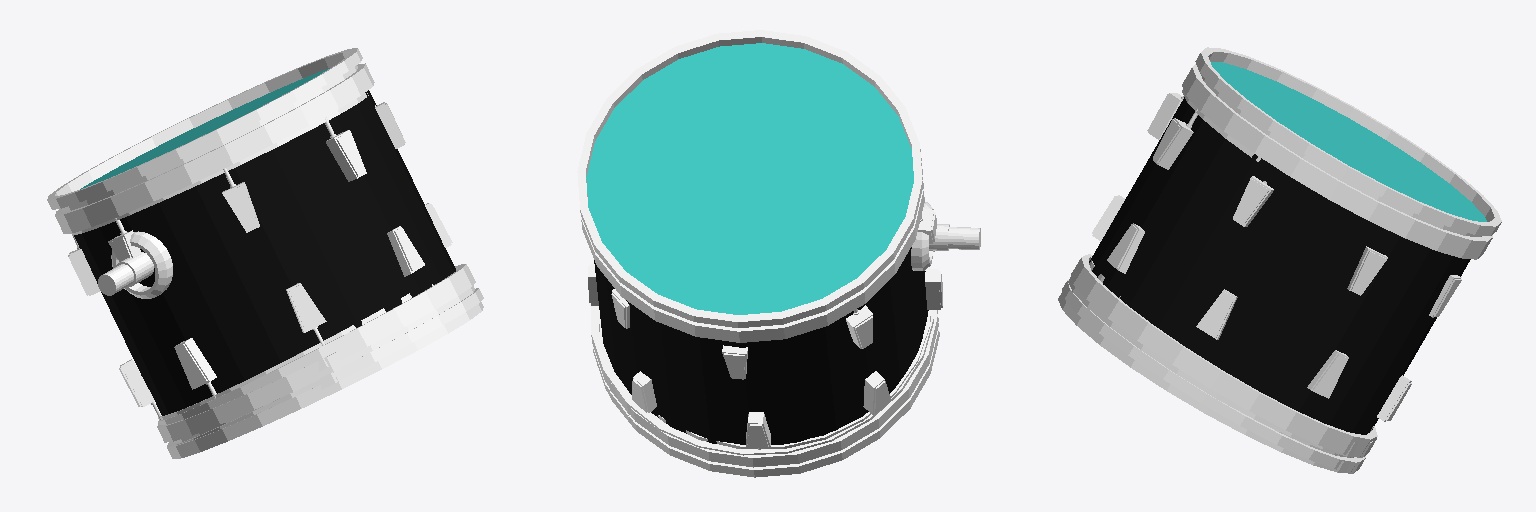
File: Tom1.obj
3 renders of one model, left to right at view 1: azimuth 30°, elevation 25°; view 2: azimuth 150°, elevation 25°; view 3: azimuth 270°, elevation 25°, orthographic.
Visible parts, largest first — view 1: ComponentFBXASC0359_001; view 2: ComponentFBXASC0359_001; view 3: ComponentFBXASC0359_001.
Part boxes in pixels (left/top/right/bottom): ComponentFBXASC0359_001: left=47, top=48, right=483, bottom=458; ComponentFBXASC0359_001: left=577, top=30, right=980, bottom=477; ComponentFBXASC0359_001: left=1058, top=47, right=1501, bottom=473.
Bounding box in the file's own units: 186 × 188 × 194.